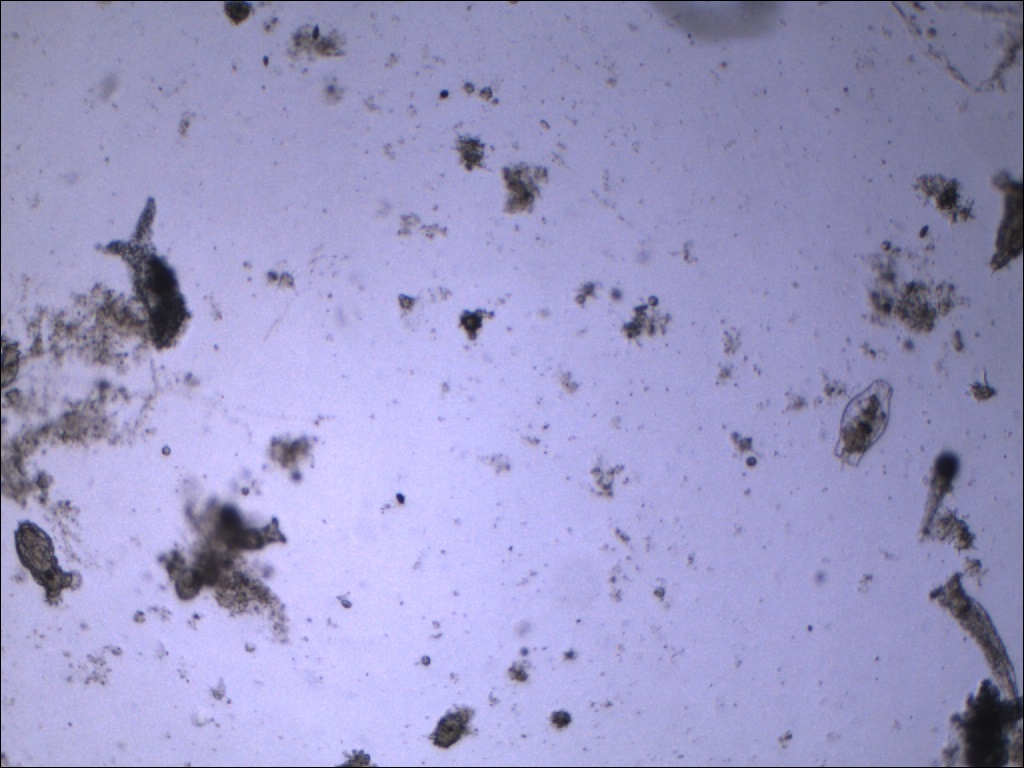amoeba: (91, 192, 197, 356)
